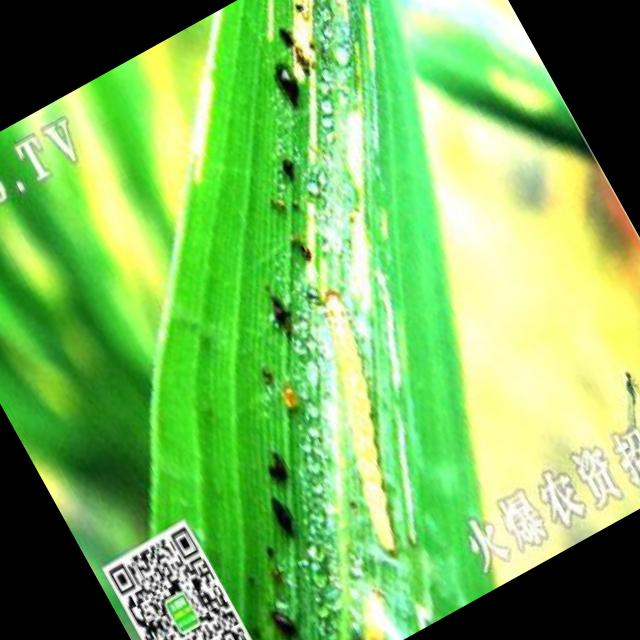leaf-folder: (240, 270, 472, 569)
